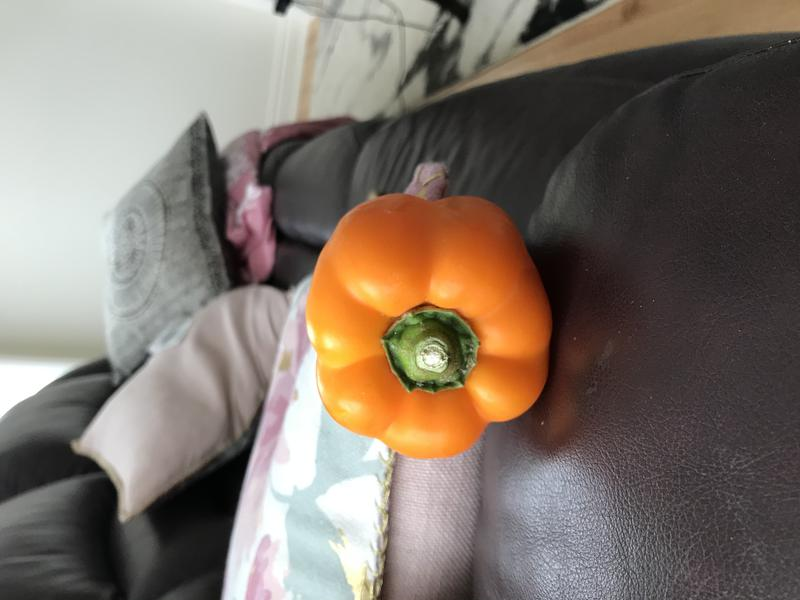orange_pepper: (295, 183, 562, 462)
